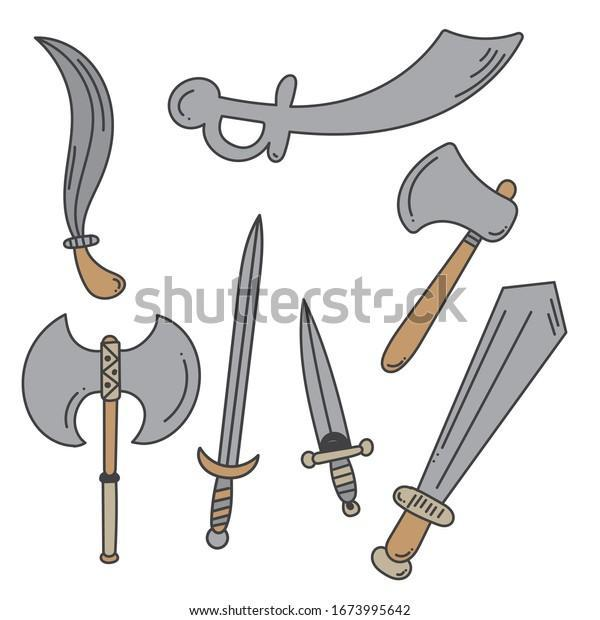espada: (371, 282, 566, 579), (168, 30, 522, 162), (34, 37, 125, 299)
faca: (301, 299, 351, 455), (329, 456, 359, 516)
facao: (197, 215, 262, 548)
machado: (23, 315, 199, 563), (381, 143, 517, 372)
